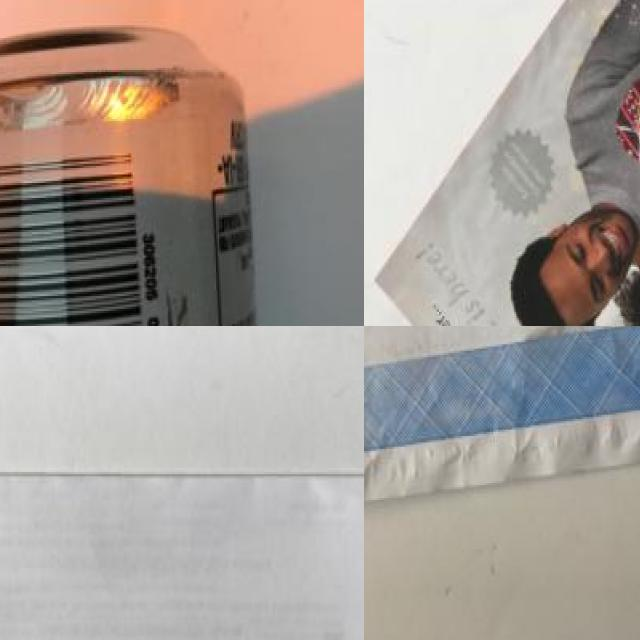paper: (394, 0, 640, 326), (0, 476, 364, 640), (364, 326, 640, 492)
plastic: (0, 31, 282, 326)
